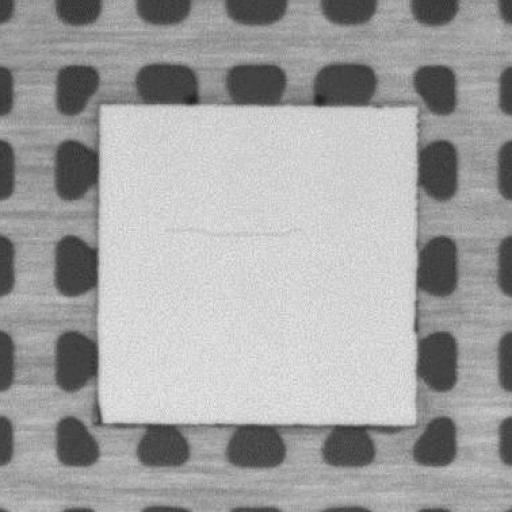DIE_CRACK: (164, 226, 313, 240)
